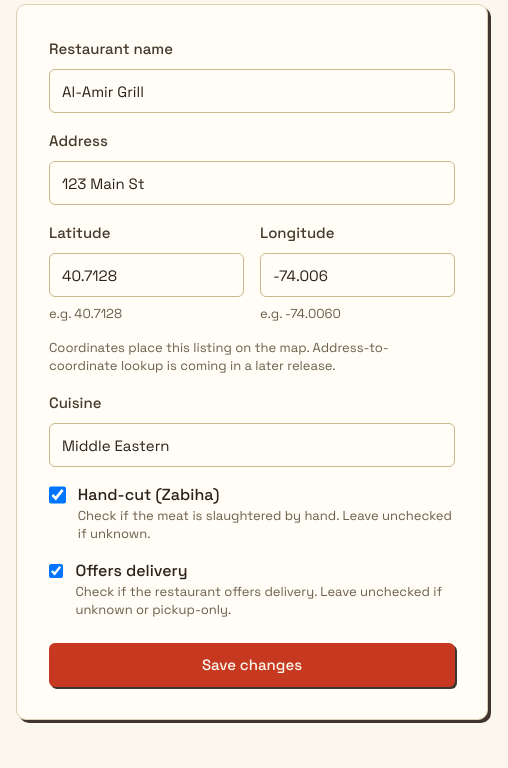
Test: EditListingPage (sc-23/47/48) — prefill + save wiring › surfaces a 401 as a session-expired prompt
The image size is (508, 768).
(page scrolled)
Click the button "Save changes".
click(252, 665)  # box [49,643,455,687]
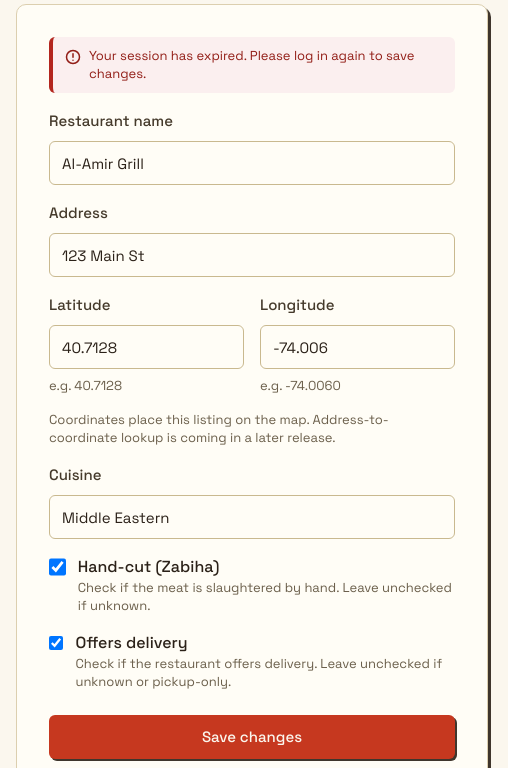
Expected: the message shows "Your session has expired", [89,47,414,82]
